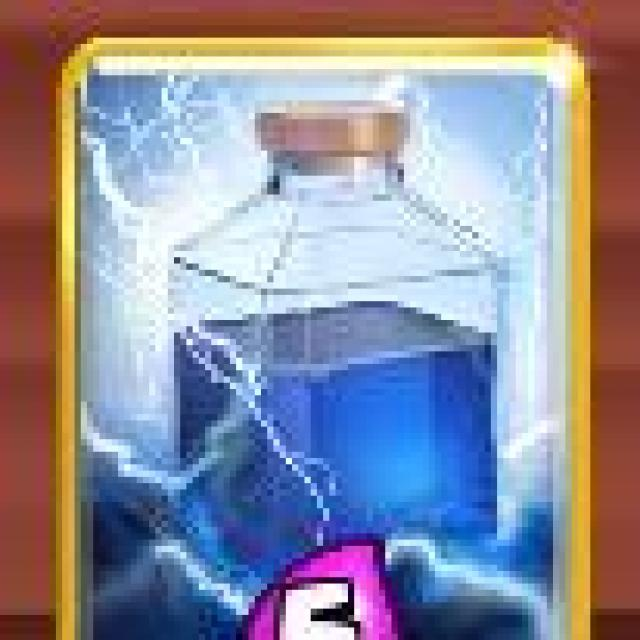Lightning: (52, 39, 587, 640)
